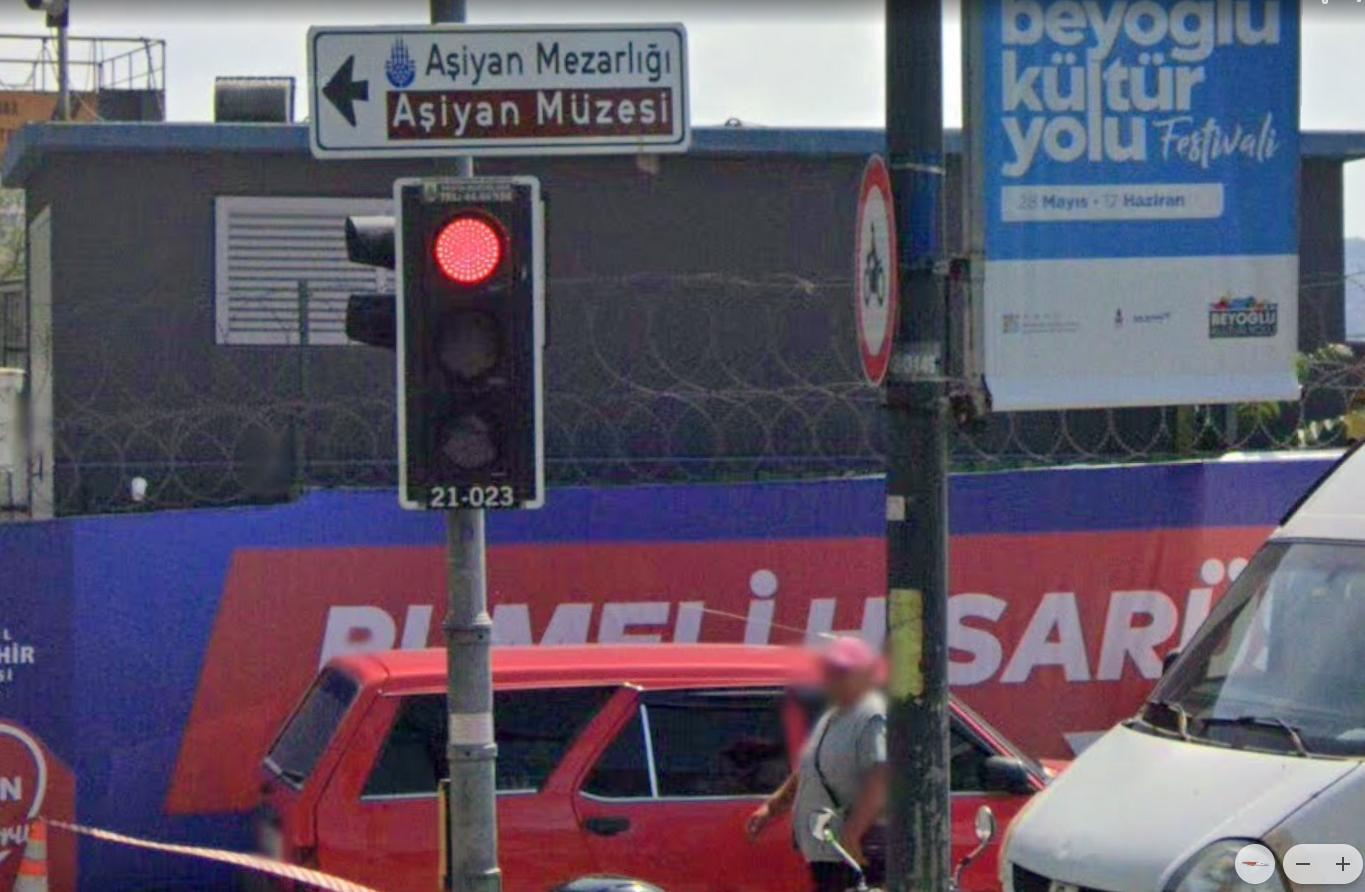redlight: (395, 175, 548, 507)
